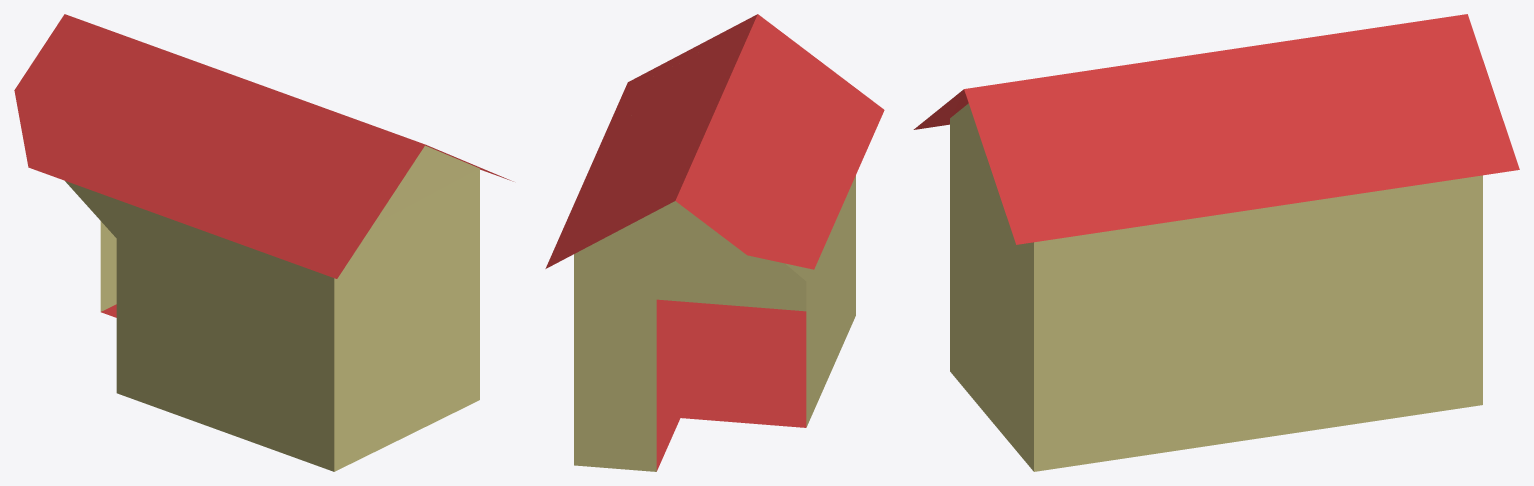
The picture shows the model from 3 angles, left to right: view 1: azimuth 30°, elevation 25°; view 2: azimuth 150°, elevation 25°; view 3: azimuth 270°, elevation 25°; orthographic projection. The views are drawn at different scales.
Bounding box in the file's own units: 15.28 × 20.87 × 12.75.
